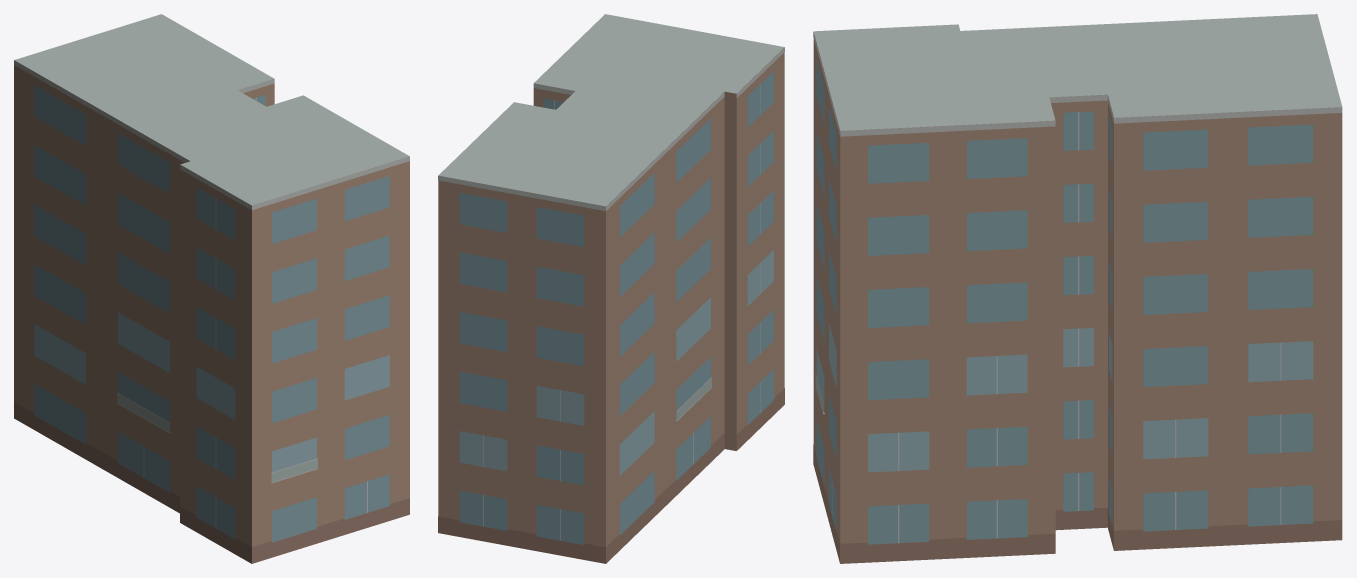
File: survey-upis-32755157.glb
3 renders of one model, left to right at view 1: azimuth 30°, elevation 25°; view 2: azimuth 150°, elevation 25°; view 3: azimuth 270°, elevation 25°, orthographic. The views are drawn at different scales.
Visible parts, largest first — view 1: survey-upis-32755157.tmp; view 2: survey-upis-32755157.tmp; view 3: survey-upis-32755157.tmp.
Boxes of the visible parts, x1=… form: survey-upis-32755157.tmp: x1=14, y1=14, x2=409, y2=563; survey-upis-32755157.tmp: x1=438, y1=14, x2=784, y2=563; survey-upis-32755157.tmp: x1=813, y1=14, x2=1342, y2=563.
Bounding box in the file's own units: 10.61 × 18.3 × 20.27.
